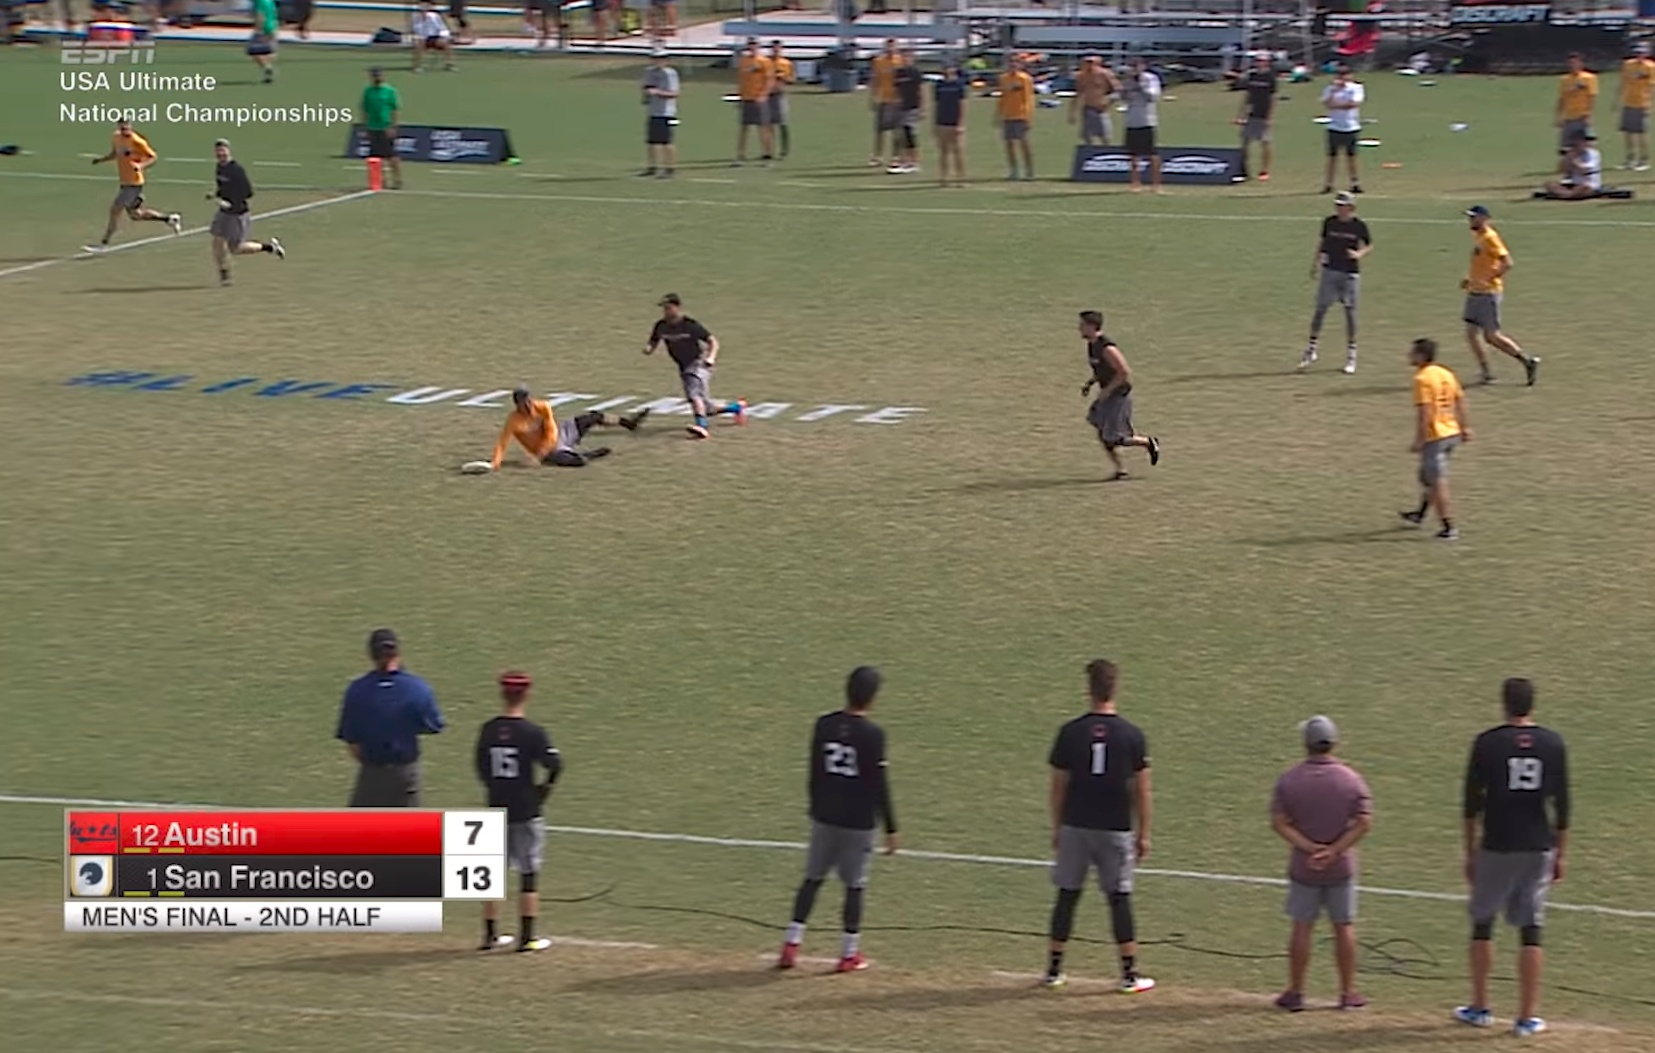frisbee: (461, 460, 491, 472), (1356, 138, 1384, 147), (721, 95, 742, 101), (1312, 116, 1332, 122)
